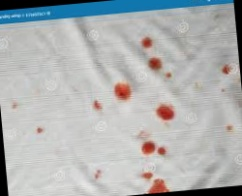blood: (139, 170, 170, 194), (142, 141, 166, 157), (114, 83, 132, 101), (156, 105, 175, 122), (149, 58, 163, 70), (142, 37, 154, 51), (221, 63, 233, 76), (94, 100, 102, 112), (164, 73, 172, 79)
